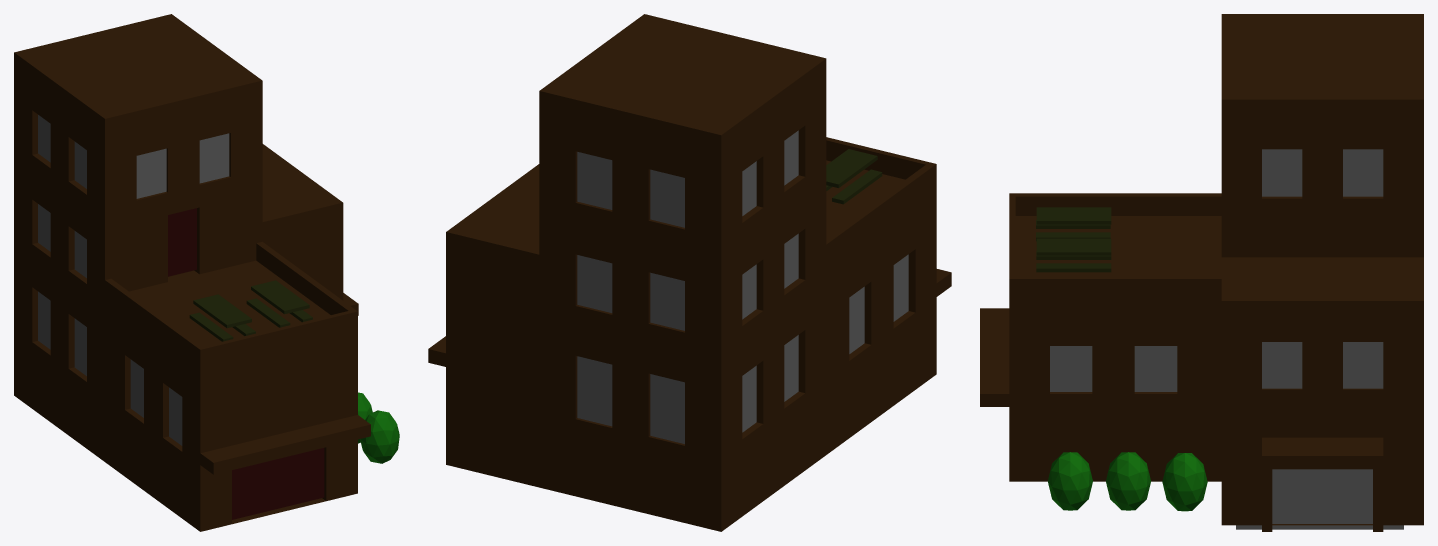
The model's file is BuildingC_01.fbx.
3 views of the same model, side by side, from view 1: azimuth 30°, elevation 25°; view 2: azimuth 150°, elevation 25°; view 3: azimuth 270°, elevation 25° (orthographic). The views are drawn at different scales.
Visible parts, largest first — view 1: Portes; view 2: Portes; view 3: Portes.
Boxes of the visible parts, left/top/right/bottom form: Portes: left=14, top=14, right=399, bottom=531; Portes: left=428, top=14, right=951, bottom=531; Portes: left=980, top=14, right=1423, bottom=531.
Size of the model in its own units: 2170 by 2657 by 2757.
